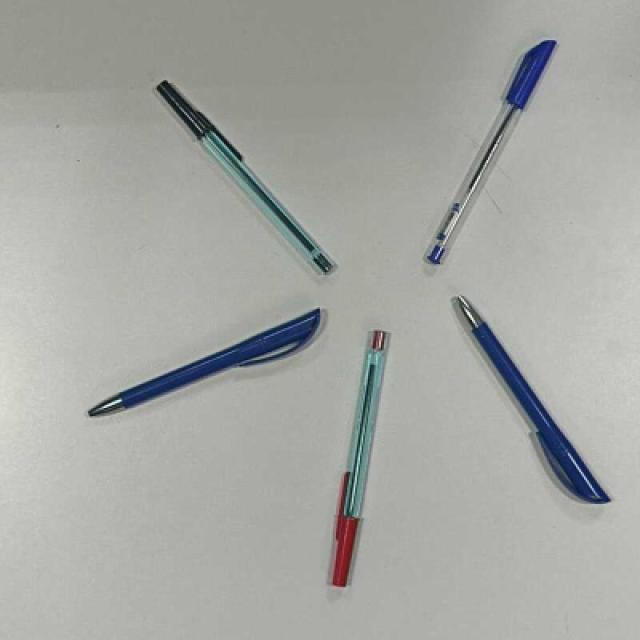caneta: (440, 294, 611, 518), (153, 76, 340, 275), (419, 30, 559, 269), (86, 307, 331, 439), (327, 329, 387, 589)
